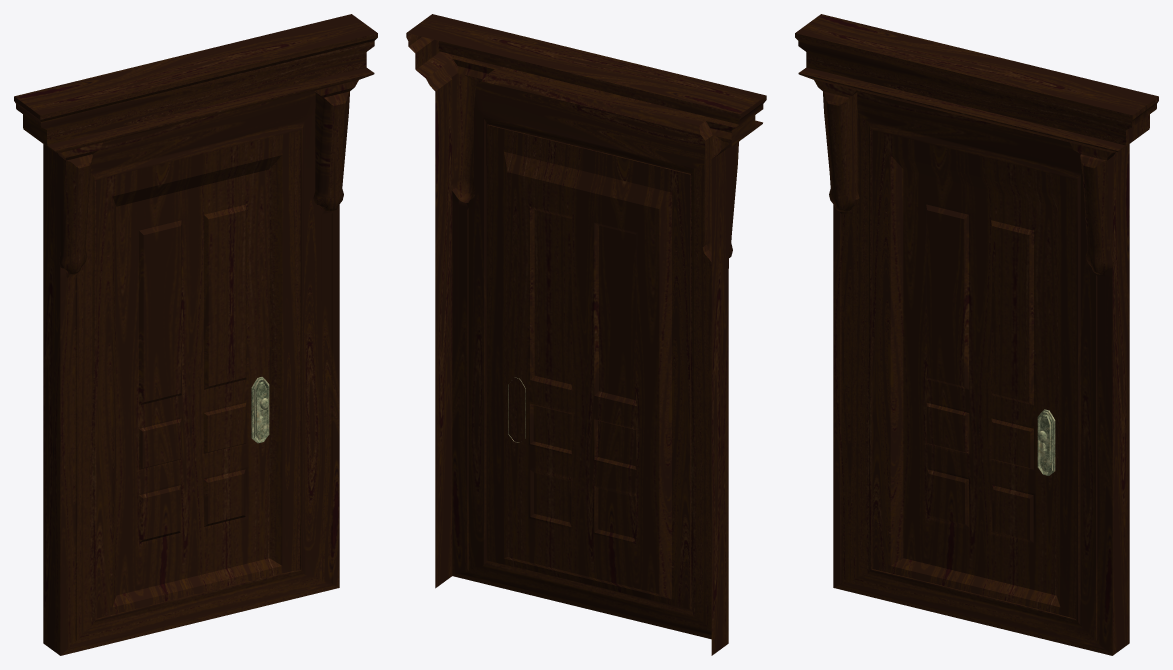
The model's file is door.fbx.
3 views of the same model, side by side, from view 1: azimuth 30°, elevation 25°; view 2: azimuth 150°, elevation 25°; view 3: azimuth 330°, elevation 25° (orthographic).
Visible parts, largest first — view 1: pCube1, pCube2; view 2: pCube1; view 3: pCube1, pCube2.
Boxes of the visible parts, bbox=[...] form: pCube1: bbox=[14, 14, 377, 655]; pCube2: bbox=[251, 377, 269, 443]; pCube1: bbox=[406, 14, 766, 655]; pCube1: bbox=[795, 14, 1158, 655]; pCube2: bbox=[1037, 409, 1055, 475].
Size of the model in its own units: 24.66 by 38.68 by 4.03.
